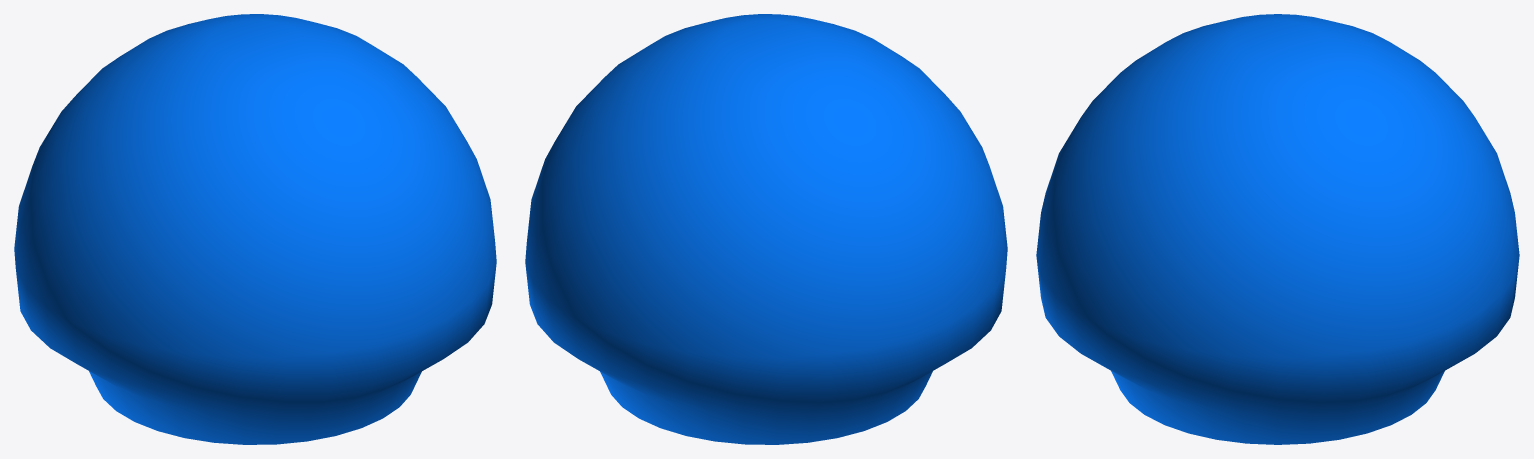
The model's file is playerHead.obj.
3 renders of one model, left to right at view 1: azimuth 30°, elevation 25°; view 2: azimuth 150°, elevation 25°; view 3: azimuth 270°, elevation 25°, orthographic.
Parts seen in each view (by area): view 1: 球; view 2: 球; view 3: 球.
Boxes of the visible parts, box(x1,y1,x2,y2) form: 球: box(14, 14, 496, 444); 球: box(525, 14, 1007, 444); 球: box(1036, 14, 1519, 444).
Bounding box in the file's own units: 2 × 1.54 × 2.
